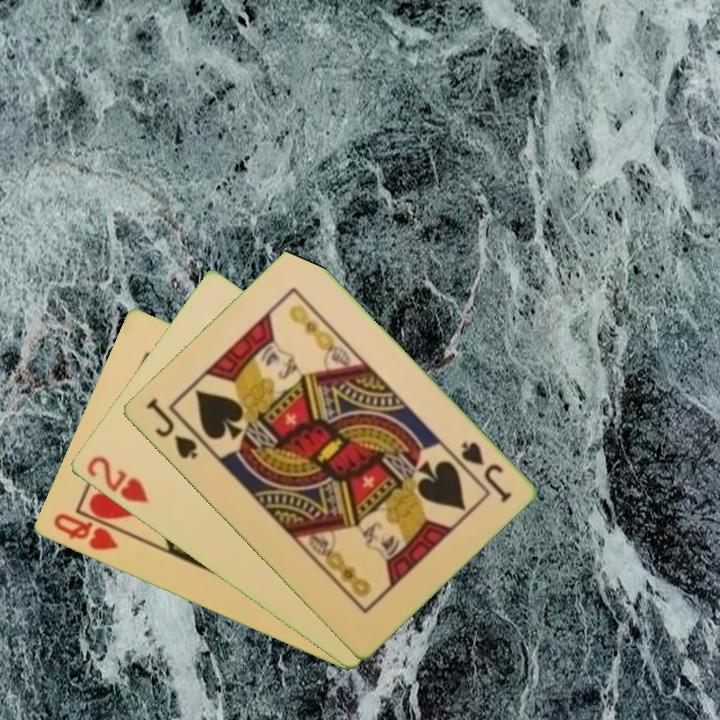2h: (82, 452, 152, 506)
Js: (141, 394, 200, 463), (456, 438, 514, 506)
Qh: (49, 510, 121, 554)
